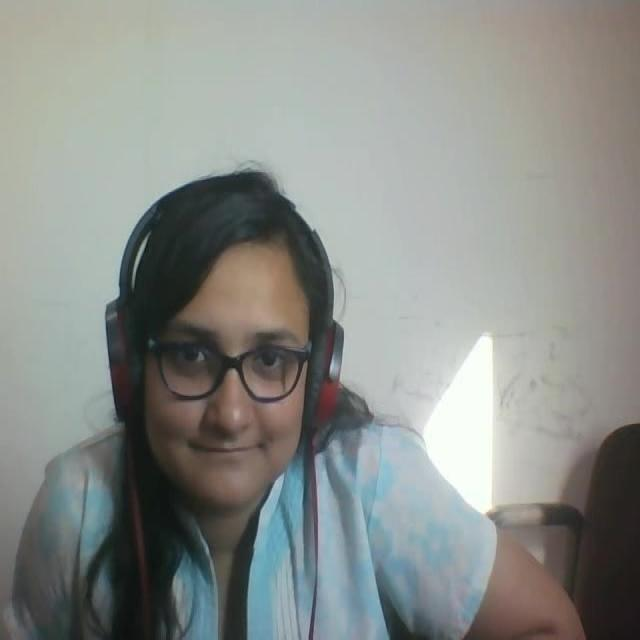Engaged: (79, 142, 368, 523)
